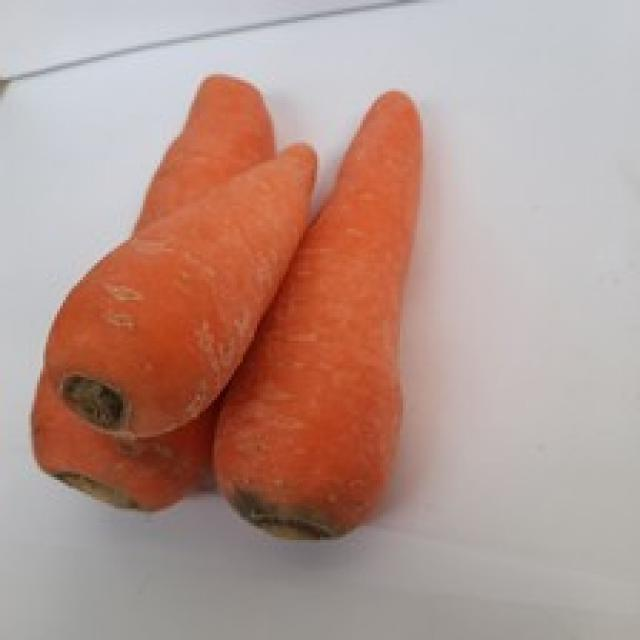carrot: (34, 75, 283, 519), (221, 89, 422, 548), (44, 137, 320, 441)
